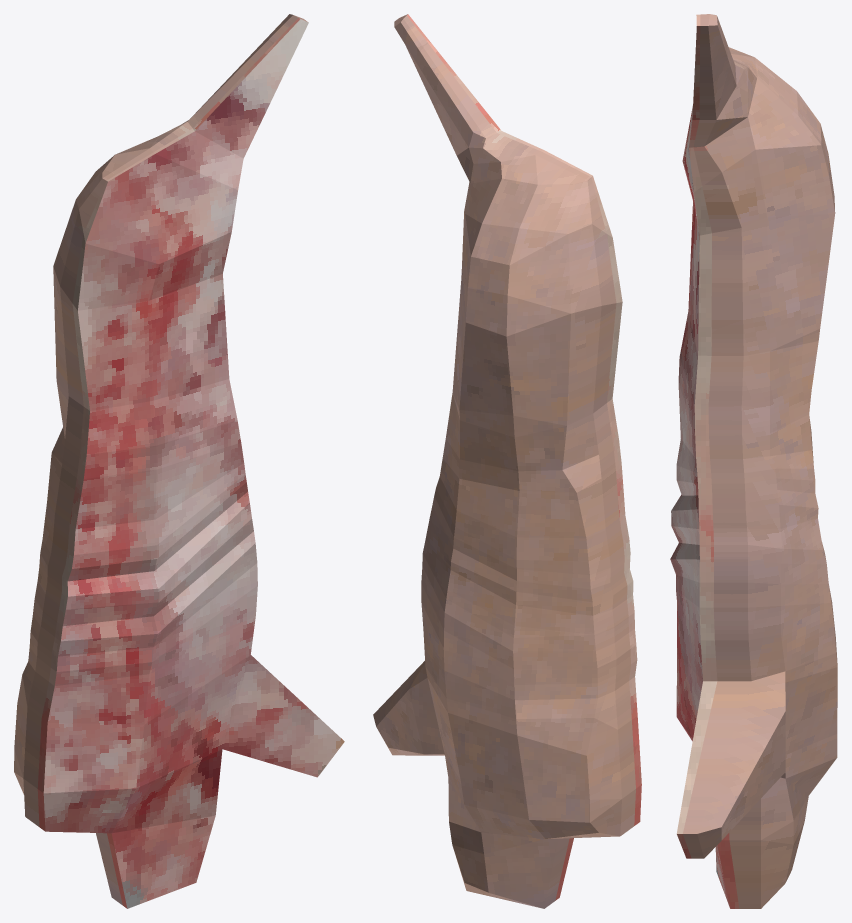
Rendered from PIG_carcass.glb.
3 renders of one model, left to right at view 1: azimuth 30°, elevation 25°; view 2: azimuth 150°, elevation 25°; view 3: azimuth 270°, elevation 25°, orthographic. The views are drawn at different scales.
Visible parts, largest first — view 1: Plane; view 2: Plane; view 3: Plane.
Boxes of the visible parts, x1,y1,x2,y2 form: Plane: (14,14,344,908); Plane: (373,14,641,908); Plane: (670,14,837,908).
Bounding box in the file's own units: 1.47 × 4.24 × 0.6809.
Materials: 1 (1 with a texture image).
